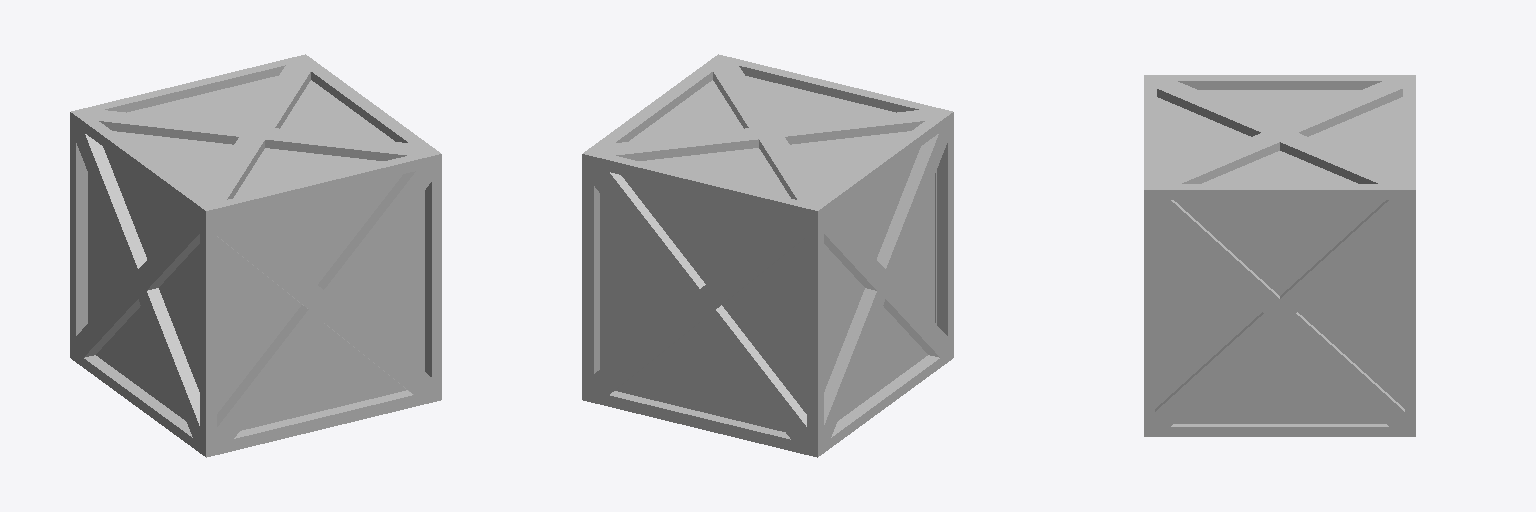
File: ящик.obj
3 renders of one model, left to right at view 1: azimuth 30°, elevation 25°; view 2: azimuth 150°, elevation 25°; view 3: azimuth 270°, elevation 25°, orthographic.
Parts seen in each view (by area): view 1: Cube; view 2: Cube; view 3: Cube.
Part boxes in pixels (left/top/right/bottom): Cube: left=70, top=54, right=441, bottom=457; Cube: left=582, top=54, right=953, bottom=457; Cube: left=1144, top=75, right=1415, bottom=436.
Bounding box in the file's own units: 2 × 2 × 2.